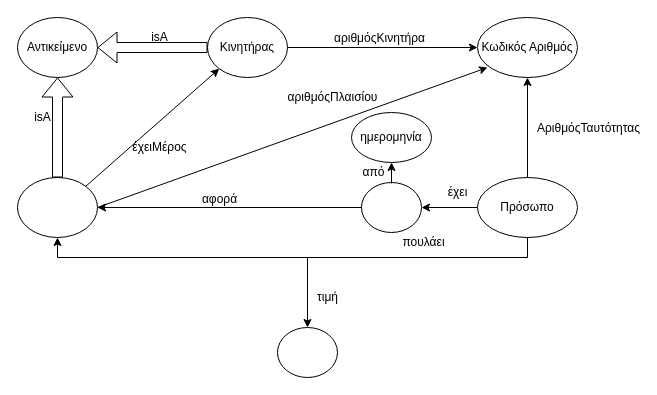
Image size: 657x395. Some labels were removed from this diagram. The box of each missing label's shape, as (x1, y1, x2, y2) in pixels:
Αξία: (276, 326, 338, 378)
Αυτοκίνητο: (16, 176, 98, 238)
κατοχή: (360, 182, 422, 232)
